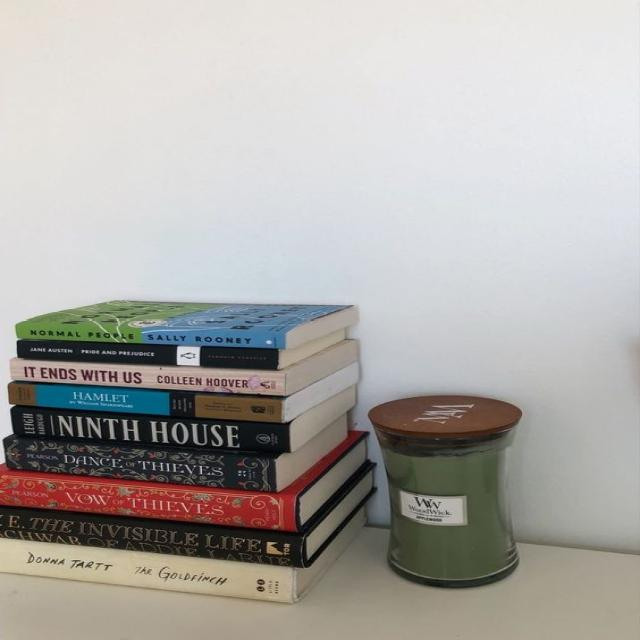book: (3, 538, 297, 605), (0, 508, 305, 567), (0, 474, 297, 533), (0, 440, 278, 488), (13, 410, 292, 452), (10, 383, 286, 422), (14, 360, 285, 395), (17, 339, 287, 367), (15, 324, 286, 344)
